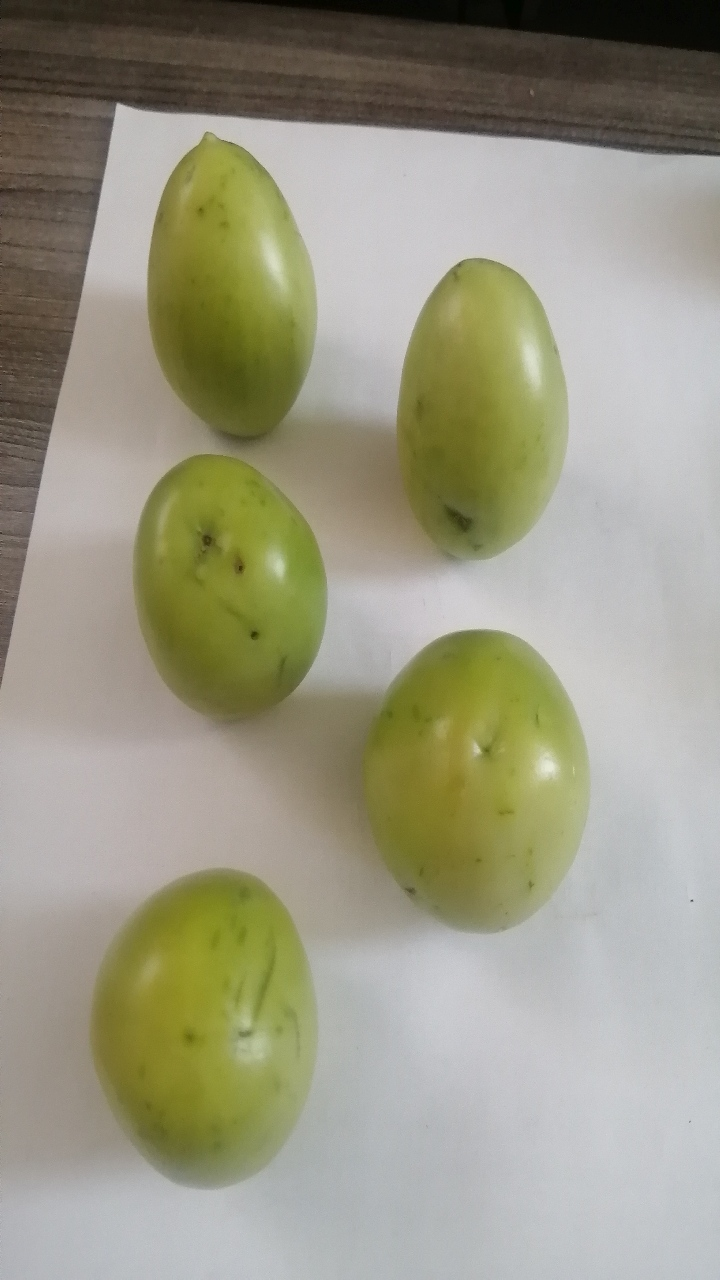tomateVerde: (337, 603, 609, 948), (75, 855, 335, 1208), (120, 103, 334, 482), (111, 439, 360, 751), (380, 242, 588, 592)
